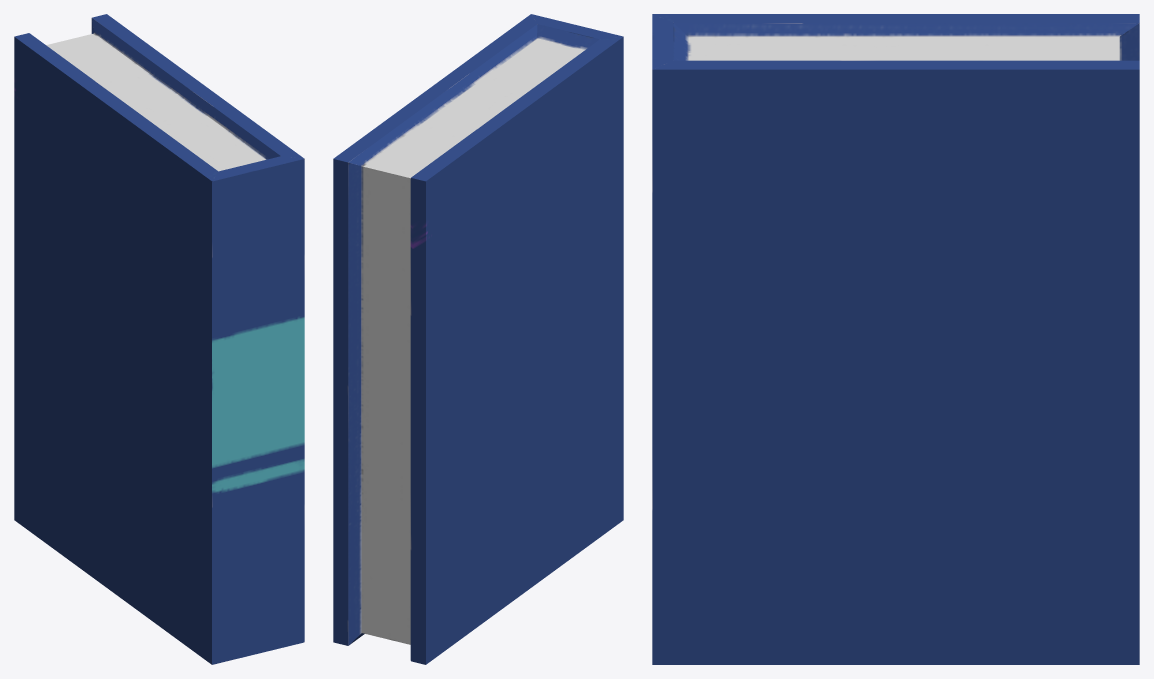
The model's file is Book_V2.fbx.
3 views of the same model, side by side, from view 1: azimuth 30°, elevation 25°; view 2: azimuth 150°, elevation 25°; view 3: azimuth 270°, elevation 25° (orthographic). The views are drawn at different scales.
Visible parts, largest first — view 1: Book_V2; view 2: Book_V2; view 3: Book_V2.
Part boxes in pixels (left/top/right/bottom): Book_V2: left=14, top=14, right=304, bottom=664; Book_V2: left=333, top=14, right=623, bottom=664; Book_V2: left=652, top=14, right=1139, bottom=664.
Size of the model in its own units: 7.07 by 35.27 by 26.17.
